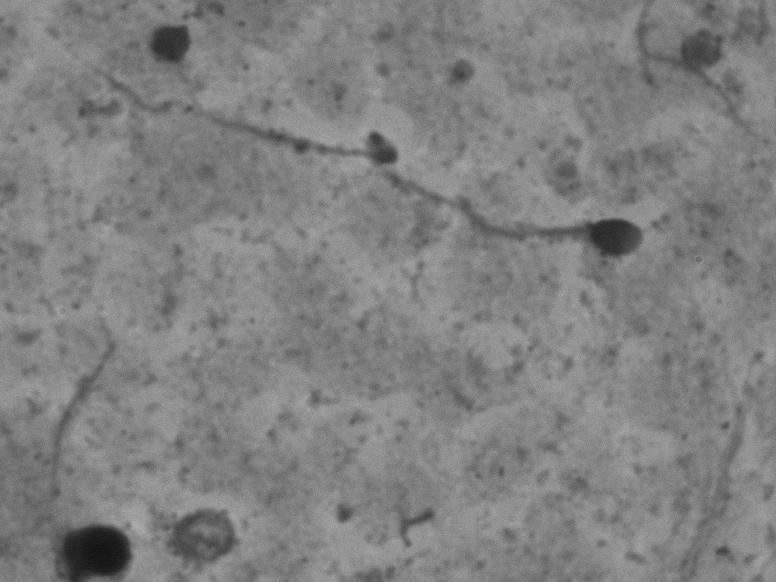Normal: (54, 31, 658, 270)
